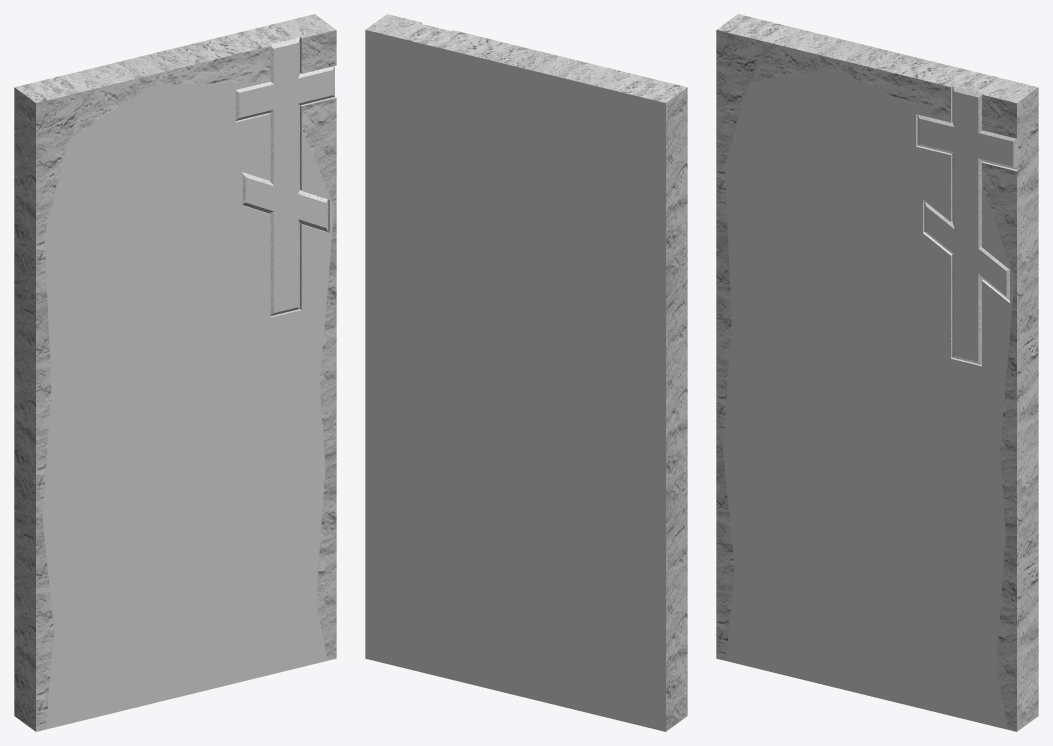
Rendered from cn1e42ae71cf_tkf.glb.
3 views of the same model, side by side, from view 1: azimuth 30°, elevation 25°; view 2: azimuth 150°, elevation 25°; view 3: azimuth 330°, elevation 25° (orthographic).
Parts seen in each view (by area): view 1: Pam-v-157, Pam-v-157_2_notexture; view 2: Pam-v-157, Pam-v-157_2_notexture; view 3: Pam-v-157, Pam-v-157_2_notexture.
Part boxes in pixels (x1,y1,x2,y2): Pam-v-157: [42, 43, 334, 729]; Pam-v-157_2_notexture: [14, 14, 336, 731]; Pam-v-157: [365, 30, 665, 731]; Pam-v-157_2_notexture: [365, 14, 687, 731]; Pam-v-157: [723, 69, 1014, 729]; Pam-v-157_2_notexture: [716, 14, 1038, 731].
Size of the model in its own units: 0.4 by 0.8 by 0.05.
Materials: 1 (1 with a texture image).
